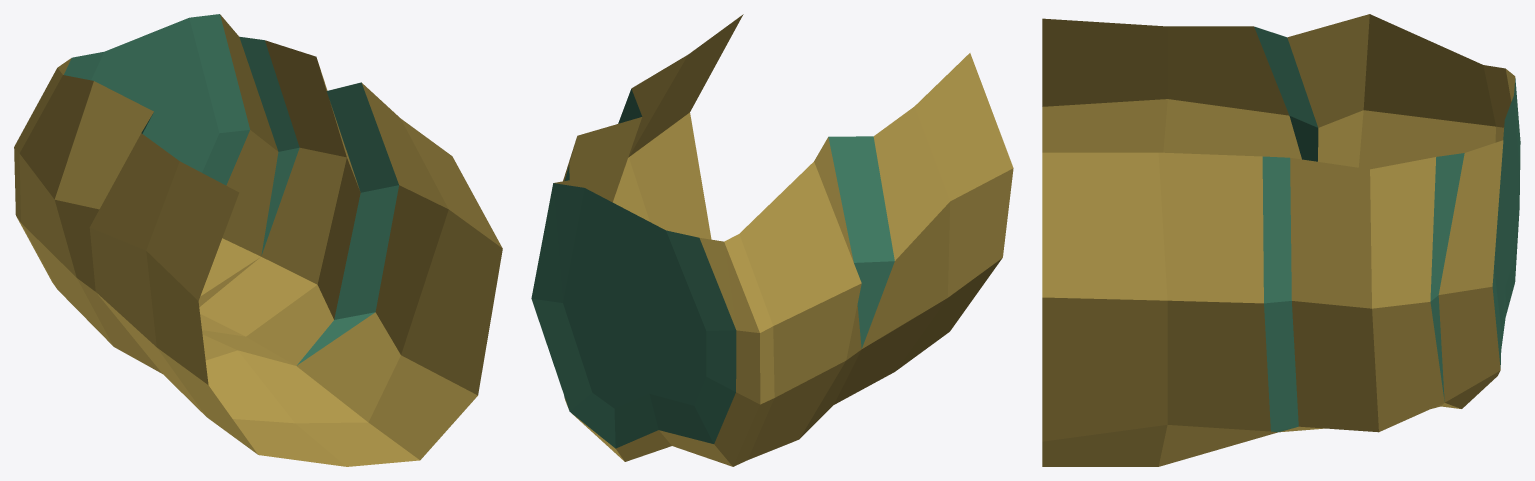
File: Cliff_5_B.fbx
The picture shows the model from 3 angles, left to right: view 1: azimuth 30°, elevation 25°; view 2: azimuth 150°, elevation 25°; view 3: azimuth 270°, elevation 25°; orthographic projection. The views are drawn at different scales.
Visible parts, largest first — view 1: Cliff_5_B.001; view 2: Cliff_5_B.001; view 3: Cliff_5_B.001.
Boxes of the visible parts, bbox=[...] form: Cliff_5_B.001: bbox=[14, 14, 502, 466]; Cliff_5_B.001: bbox=[531, 14, 1013, 466]; Cliff_5_B.001: bbox=[1042, 14, 1520, 466].
Size of the model in its own units: 6.3 by 6.21 by 7.6.
